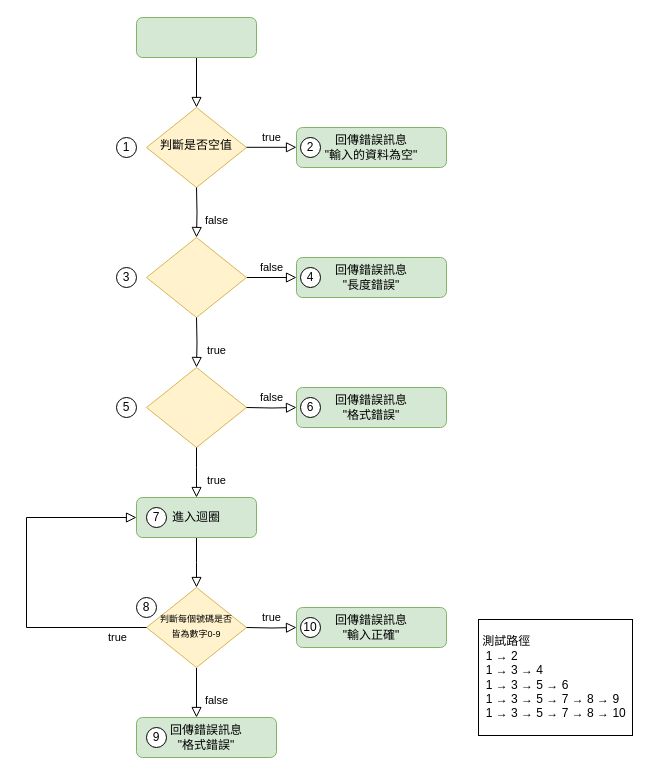
Some shapes in this 654 by 775 pixel diagram are drawn without their labels. Each missing label, with the centre of its shape:
判斷第一、二碼 是否為09: (x=196, y=407)
判斷長度 是否10碼: (x=196, y=277)
輸入手機號碼: (x=196, y=37)
